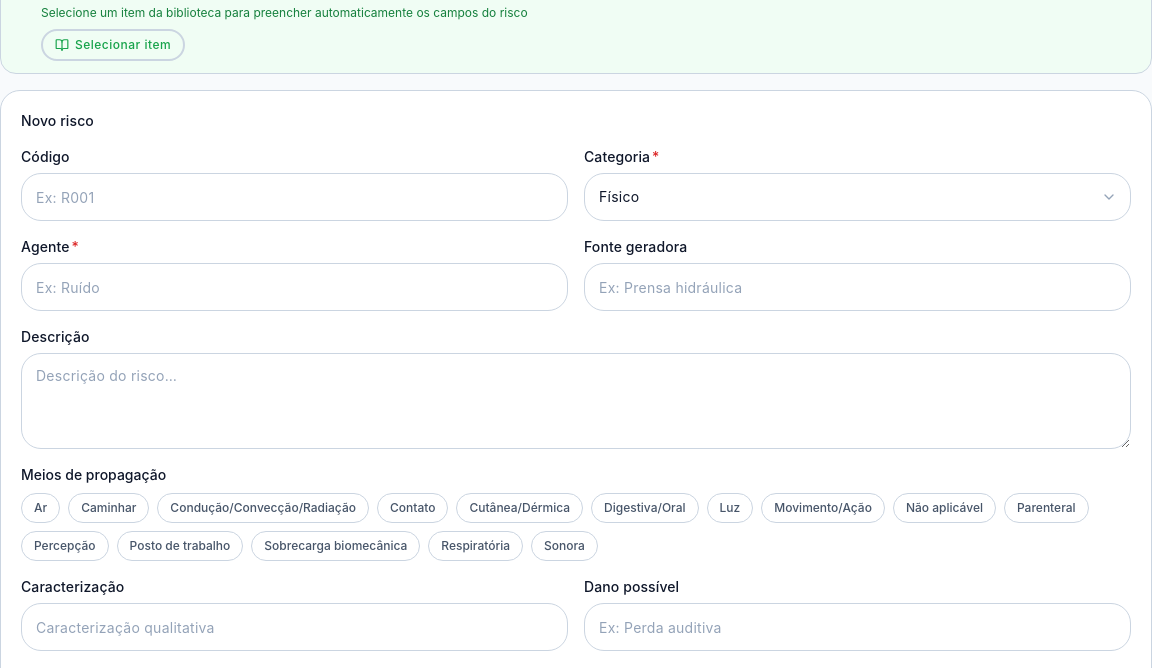
RiscoForm — integração com Biblioteca Técnica › autopreenche sugestões de exposição
Click the button "Selecionar item" at (113, 45), box 41,29 -> 185,61
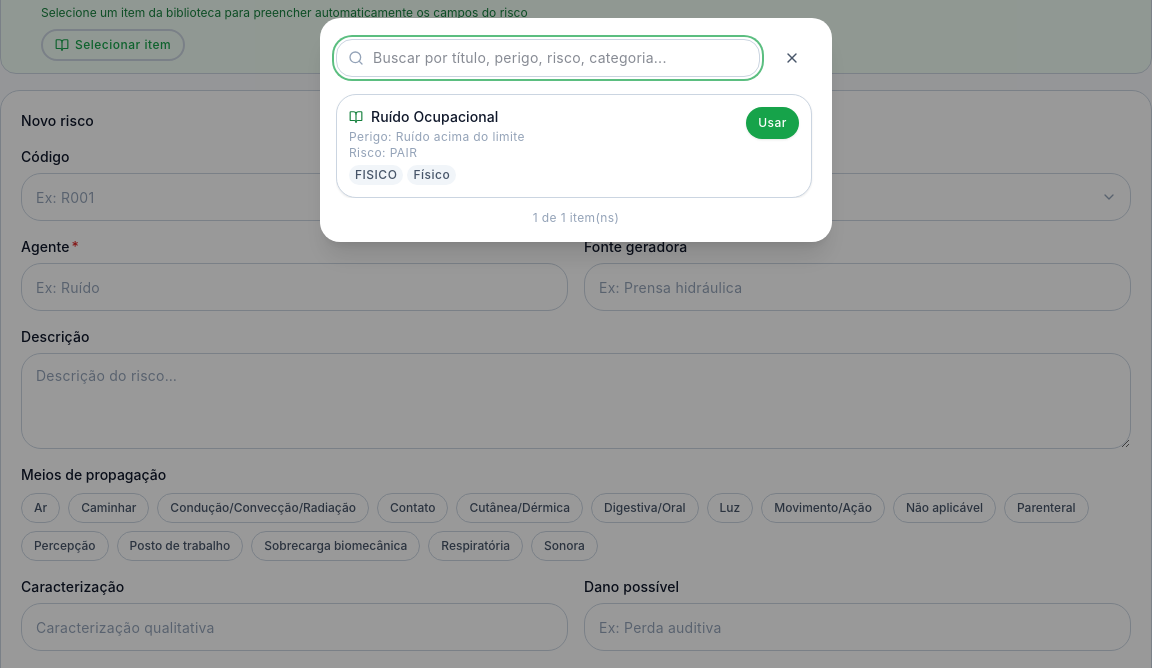
Click the text "Ruído Ocupacional" at (435, 117), box 371,107 -> 498,127
(page scrolled)
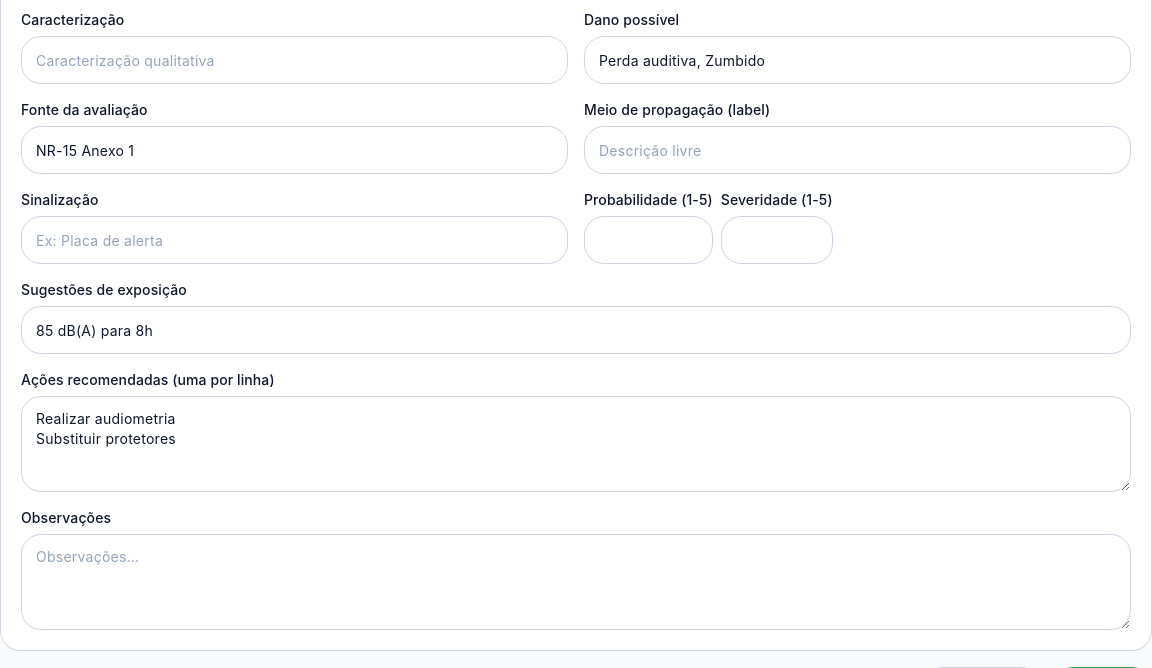
Now the field showing "85 dB(A) para 8h" is shown, box 21,306 -> 1131,354
